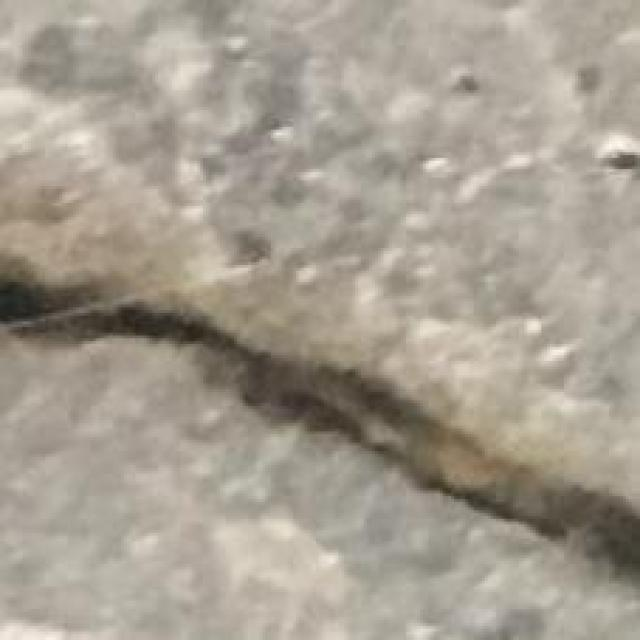Crack: (3, 256, 631, 580)
